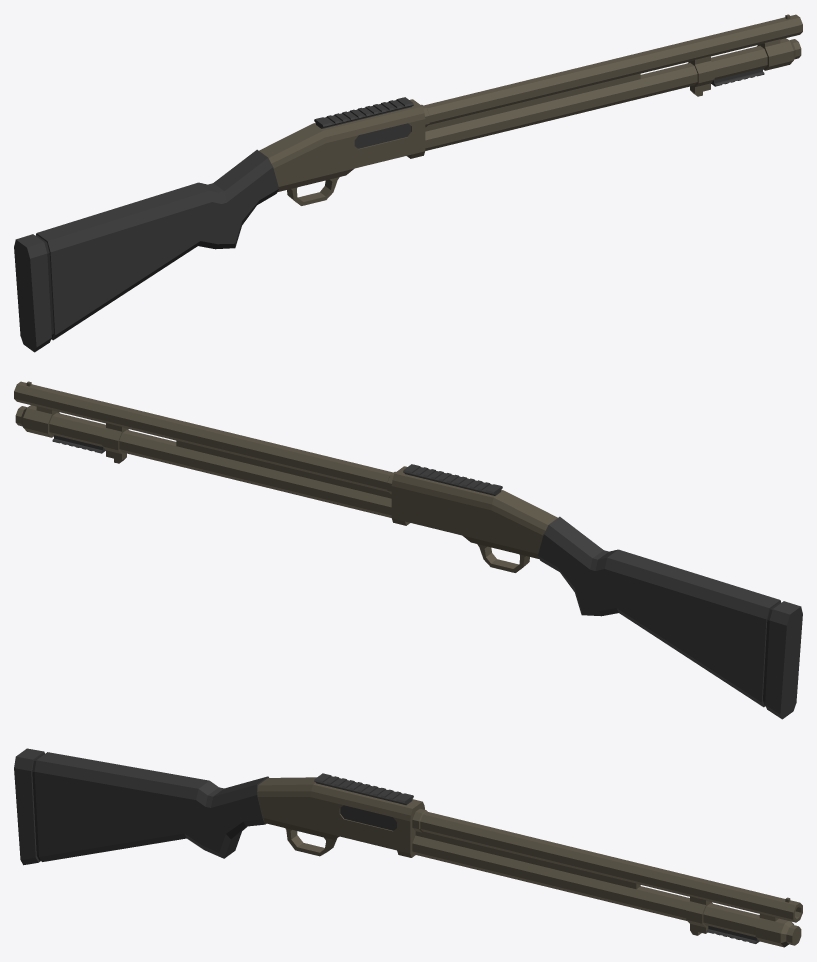
Rendered from Shotgun3_03.fbx.
3 views of the same model, one above another, from view 1: azimuth 30°, elevation 25°; view 2: azimuth 150°, elevation 25°; view 3: azimuth 330°, elevation 25° (orthographic).
Parts seen in each view (by area): view 1: Shotgun3_03; view 2: Shotgun3_03; view 3: Shotgun3_03.
Part boxes in pixels (x1=…): Shotgun3_03: x1=14, y1=14, x2=802, y2=352; Shotgun3_03: x1=14, y1=381, x2=802, y2=719; Shotgun3_03: x1=14, y1=748, x2=802, y2=947.
Bounding box in the file's own units: 1.18 × 0.226 × 0.0424.
